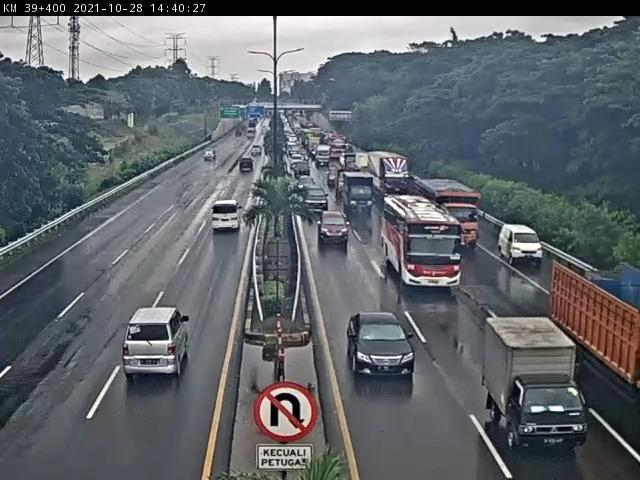bus: (376, 191, 459, 283)
car: (349, 310, 418, 384), (125, 311, 183, 380), (502, 224, 545, 268), (210, 201, 245, 234), (320, 213, 351, 247), (305, 185, 327, 206), (238, 156, 257, 172)
truck: (555, 261, 640, 418), (485, 321, 590, 446), (420, 179, 482, 248), (340, 169, 375, 214)
